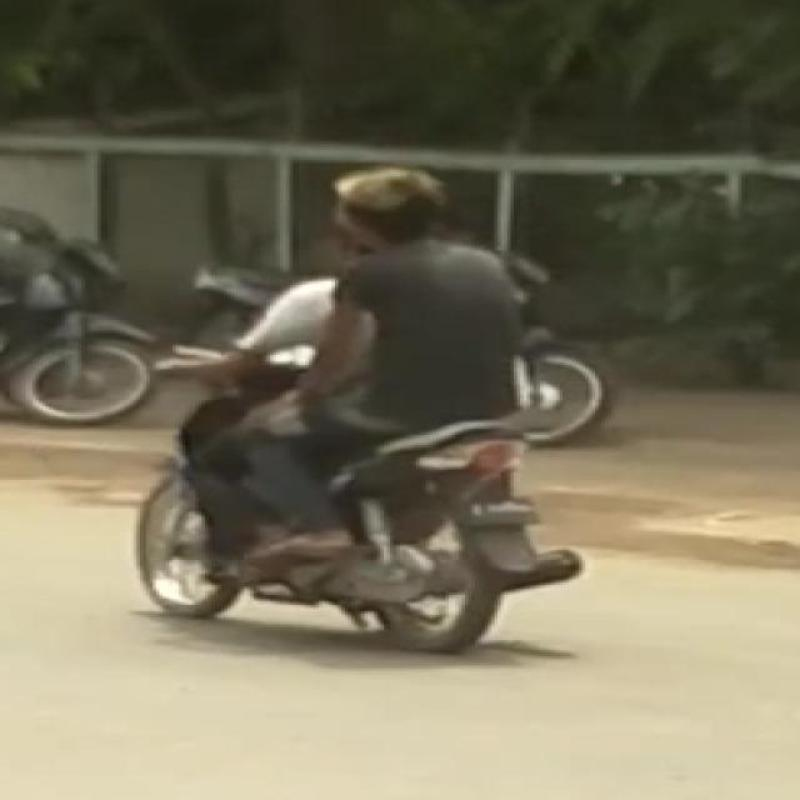nohelmet: (308, 150, 501, 244)
